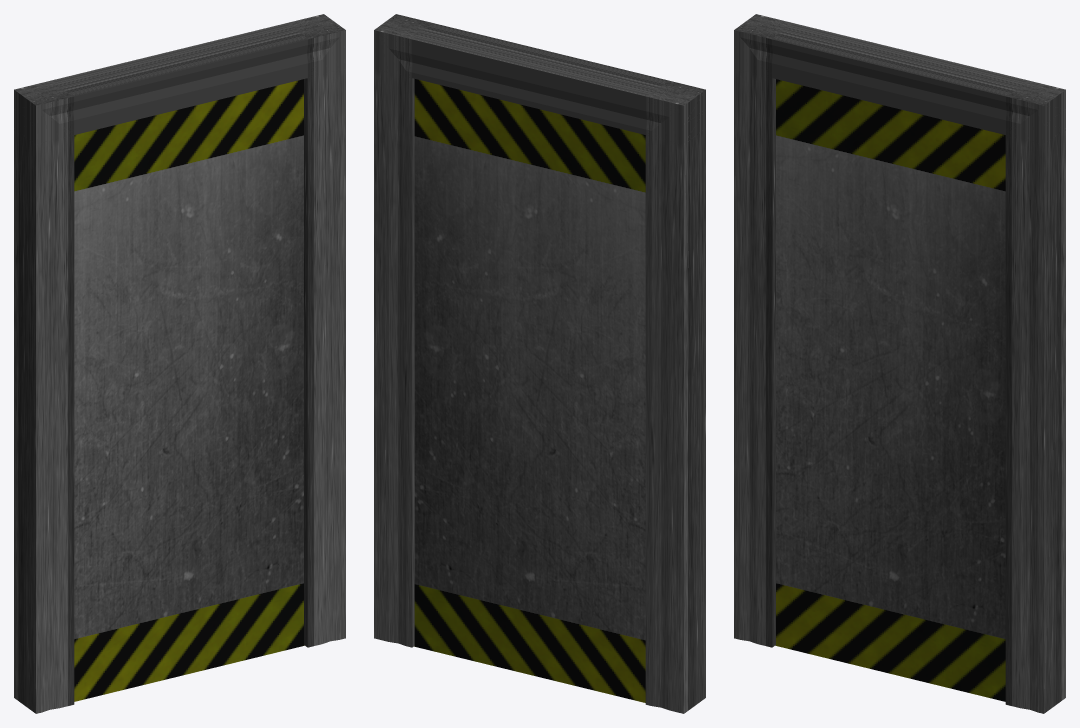
Rendered from SecDoor.fbx.
3 renders of one model, left to right at view 1: azimuth 30°, elevation 25°; view 2: azimuth 150°, elevation 25°; view 3: azimuth 330°, elevation 25°, orthographic.
Parts seen in each view (by area): view 1: Cube.001, Cube; view 2: Cube.001, Cube; view 3: Cube.001, Cube.
Part boxes in pixels (box(x1,y1,x2,y2)): Cube.001: box(74, 79, 304, 701); Cube: box(14, 14, 345, 713); Cube.001: box(414, 79, 645, 702); Cube: box(374, 14, 705, 713); Cube.001: box(775, 79, 1005, 701); Cube: box(734, 14, 1065, 713).
Bounding box in the file's own units: 112 × 210 × 13.78.
